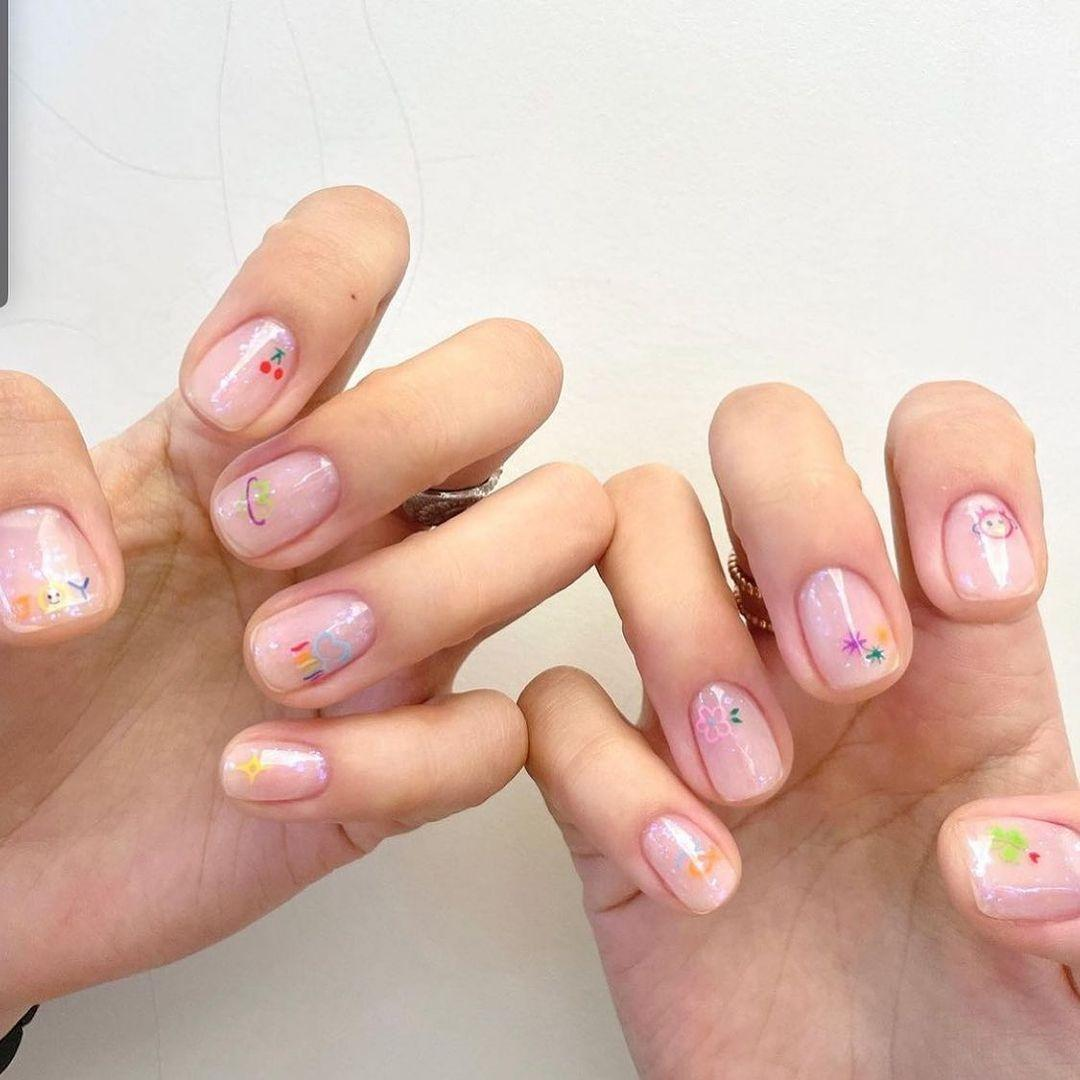nail: (208, 446, 341, 561), (0, 502, 109, 639), (181, 314, 297, 433), (245, 589, 376, 694), (794, 563, 900, 691), (687, 678, 787, 806), (959, 814, 1078, 921), (940, 490, 1037, 602), (638, 810, 740, 914), (218, 737, 329, 803)
